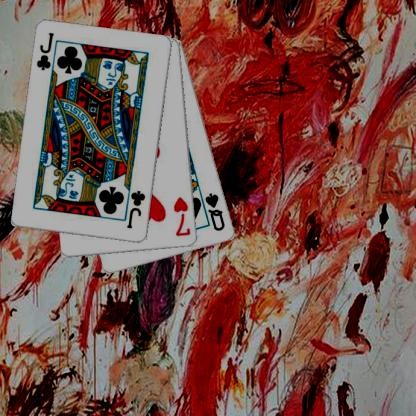7H: (171, 194, 192, 238)
JC: (125, 189, 147, 230), (34, 30, 55, 72)
QS: (203, 191, 226, 232)
